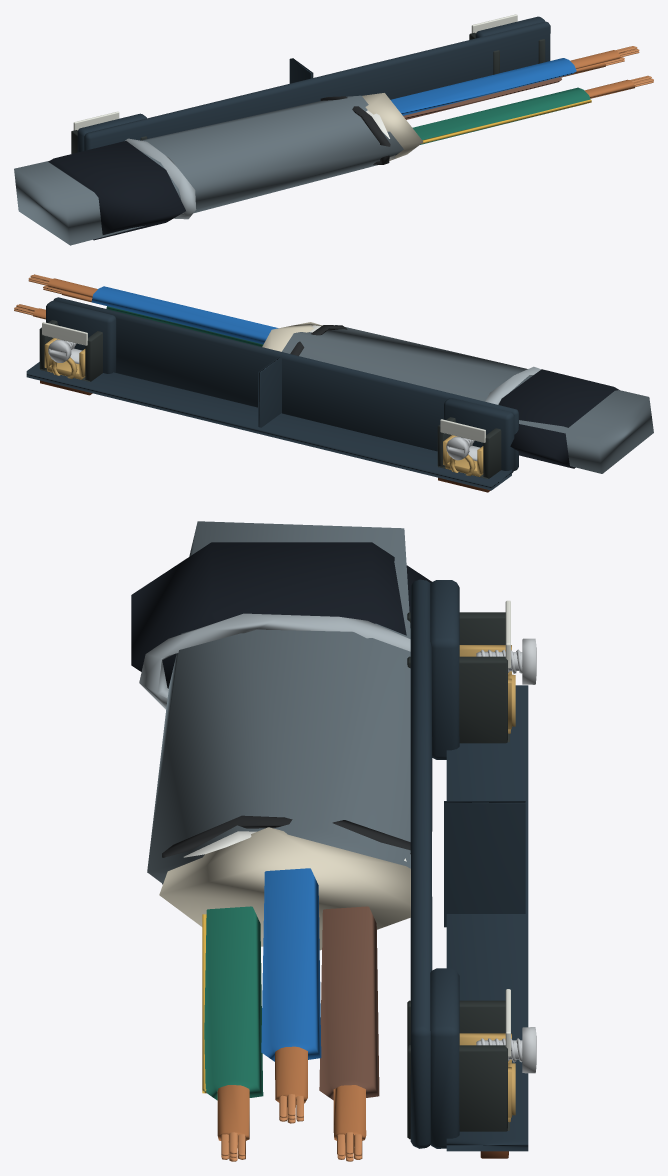
File: cable_three-core.low.glb
The picture shows the model from 3 angles, top to bottom: view 1: azimuth 30°, elevation 25°; view 2: azimuth 150°, elevation 25°; view 3: azimuth 270°, elevation 25°; orthographic projection. The views are drawn at different scales.
Visible parts, largest first — view 1: part:body, part:terminals · Original a463fd81, part:mounting, part:sheath, part:sheath · Original db0da9ae, Cutaway cable outer sheath, detail:stranded-copper-cores · Detail oxygen-free copper, detail:terminal-clamp:OUT · Detail moulded engineering polym, Moulded terminal legend pad, Moulded terminal legend pad.001; view 2: part:terminals · Original a463fd81, part:body, part:mounting, part:sheath, detail:terminal-clamp:IN · Detail moulded engineering polyme, detail:terminal-clamp:OUT · Detail moulded engineering polym, detail:terminal-clamp:OUT · Detail machined brass, detail:terminal-clamp:IN · Detail machined brass, part:sheath · Original db0da9ae, Moulded terminal legend pad, Moulded terminal legend pad.001, detail:terminal-clamp:IN · Detail zinc plated fixing (+3 smaller); view 3: part:body, part:terminals · Original a463fd81, part:sheath, part:mounting, detail:terminal-clamp:OUT · Detail moulded engineering polym, detail:terminal-clamp:IN · Detail moulded engineering polyme, part:sheath · Original db0da9ae, Cutaway cable outer sheath, detail:stranded-copper-cores · Detail oxygen-free copper, detail:terminal-clamp:OUT · Detail zinc plated fixing, detail:terminal-clamp:IN · Detail zinc plated fixing, detail:terminal-clamp:OUT · Detail machined brass.
Boxes of the visible parts, x1,y1,x2,y2 form: part:body: (14, 93, 423, 245); part:terminals · Original a463fd81: (77, 16, 550, 152); part:mounting: (48, 138, 196, 240); part:sheath: (390, 58, 591, 144); part:sheath · Original db0da9ae: (561, 50, 639, 98); Cutaway cable outer sheath: (320, 96, 390, 164); detail:stranded-copper-cores · Detail oxygen-free copper: (605, 46, 653, 87); detail:terminal-clamp:OUT · Detail moulded engineering polym: (469, 32, 545, 74); Moulded terminal legend pad: (73, 111, 119, 130); Moulded terminal legend pad.001: (471, 14, 517, 33); part:terminals · Original a463fd81: (26, 297, 518, 490); part:body: (262, 322, 653, 473); part:mounting: (485, 366, 618, 468); part:sheath: (91, 286, 278, 346); detail:terminal-clamp:IN · Detail moulded engineering polyme: (437, 417, 501, 478); detail:terminal-clamp:OUT · Detail moulded engineering polym: (39, 320, 102, 381); detail:terminal-clamp:OUT · Detail machined brass: (44, 338, 85, 379); detail:terminal-clamp:IN · Detail machined brass: (443, 435, 483, 476); part:sheath · Original db0da9ae: (28, 278, 97, 319); Moulded terminal legend pad: (440, 419, 485, 442); Moulded terminal legend pad.001: (42, 322, 87, 345); detail:terminal-clamp:IN · Detail zinc plated fixing: (446, 436, 480, 461); part:body: (147, 521, 410, 950); part:terminals · Original a463fd81: (410, 579, 528, 1151); part:sheath: (202, 868, 379, 1100); part:mounting: (131, 542, 431, 709); detail:terminal-clamp:OUT · Detail moulded engineering polym: (407, 1000, 509, 1139); detail:terminal-clamp:IN · Detail moulded engineering polyme: (407, 612, 509, 743); part:sheath · Original db0da9ae: (217, 1046, 366, 1147); Cutaway cable outer sheath: (162, 815, 410, 884); detail:stranded-copper-cores · Detail oxygen-free copper: (221, 1094, 362, 1161); detail:terminal-clamp:OUT · Detail zinc plated fixing: (476, 1027, 536, 1073); detail:terminal-clamp:IN · Detail zinc plated fixing: (476, 638, 536, 684); detail:terminal-clamp:OUT · Detail machined brass: (459, 1033, 515, 1122).
Bounding box in the file's own units: 1.52 × 0.1677 × 0.4474.
